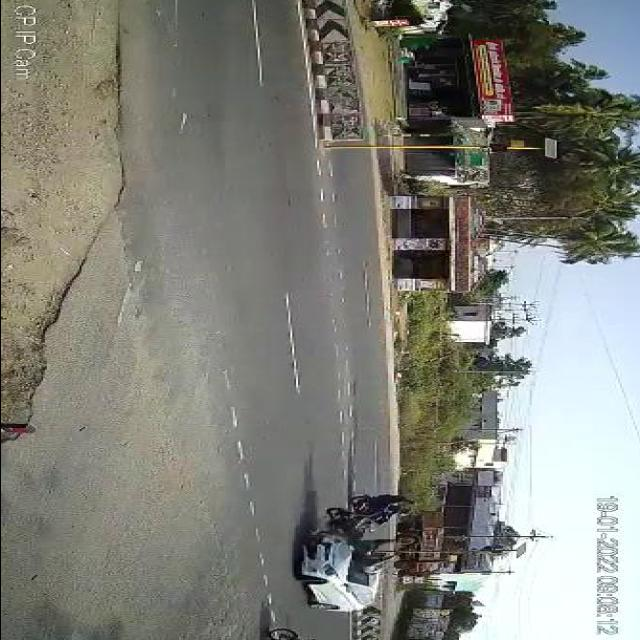accident: (288, 501, 412, 617)
